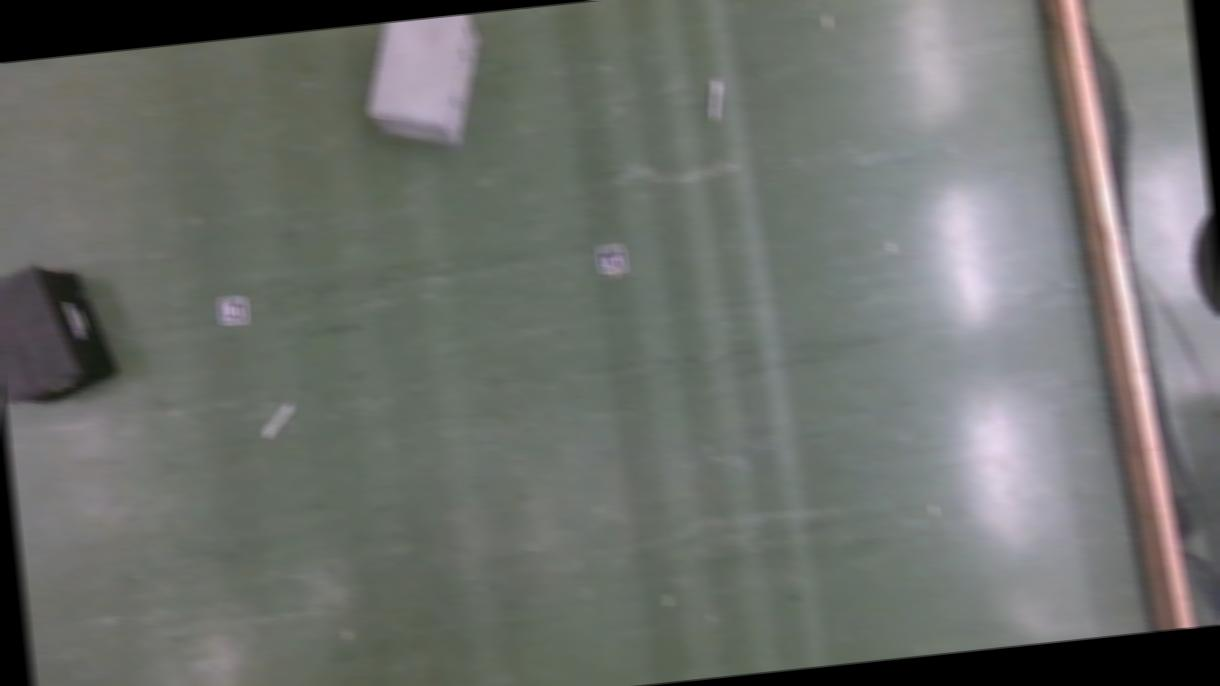probes: (262, 402, 298, 440), (706, 77, 724, 122)
rako: (358, 12, 489, 156), (0, 257, 120, 408)
